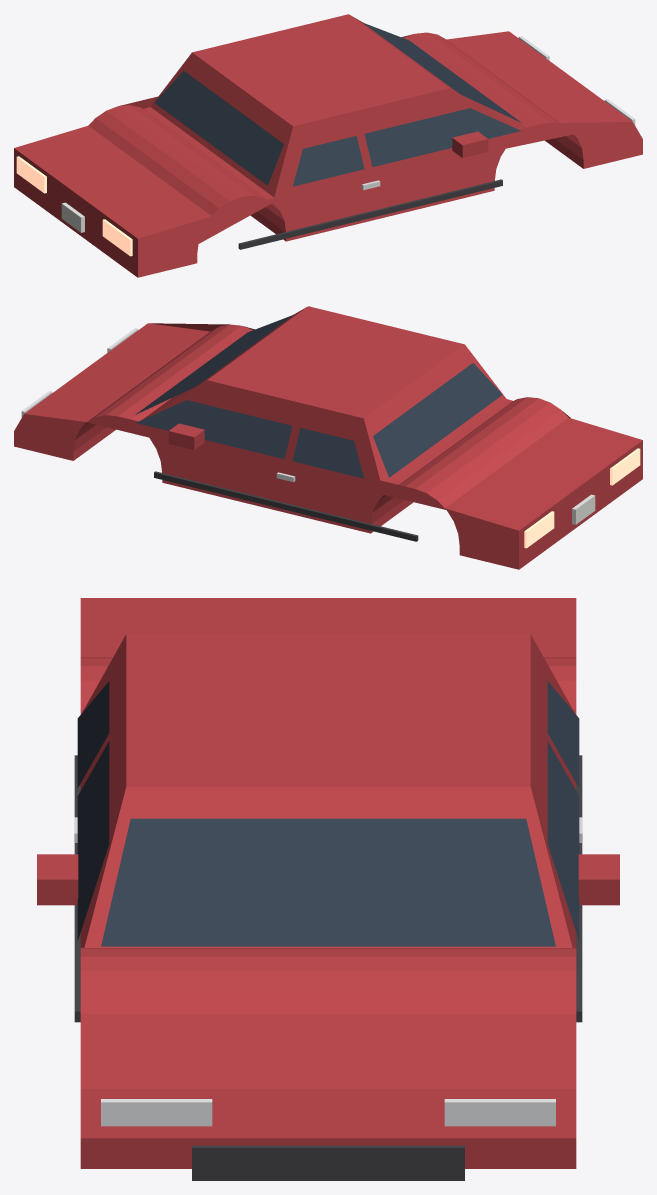
File: SM_Veh_Sports.fbx
3 views of the same model, one above another, from view 1: azimuth 30°, elevation 25°; view 2: azimuth 150°, elevation 25°; view 3: azimuth 270°, elevation 25° (orthographic). The views are drawn at different scales.
Parts seen in each view (by area): view 1: SM_Veh_Sports; view 2: SM_Veh_Sports; view 3: SM_Veh_Sports.
Boxes of the visible parts, x1=… form: SM_Veh_Sports: x1=14, y1=14, x2=642, y2=277; SM_Veh_Sports: x1=14, y1=306, x2=642, y2=569; SM_Veh_Sports: x1=37, y1=598, x2=619, y2=1180.
Bounding box in the file's own units: 456 × 225 × 91.19.
